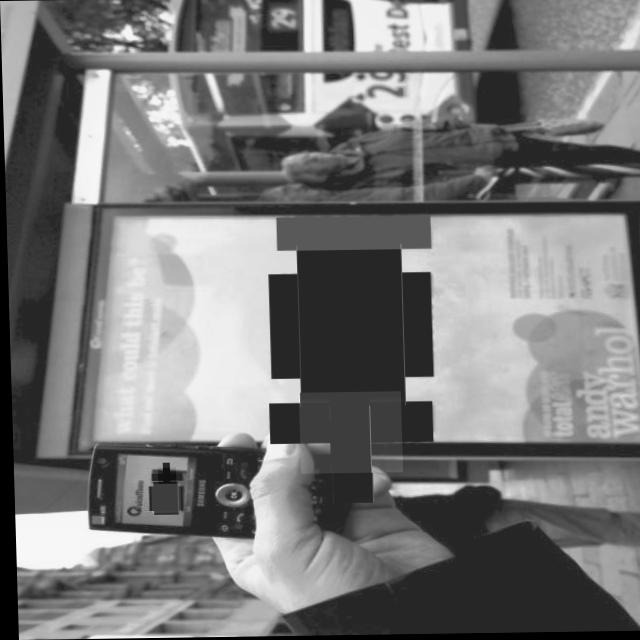qr_code: (281, 258, 417, 393), (296, 371, 401, 474), (275, 216, 429, 251), (148, 483, 178, 512), (155, 467, 173, 486)
